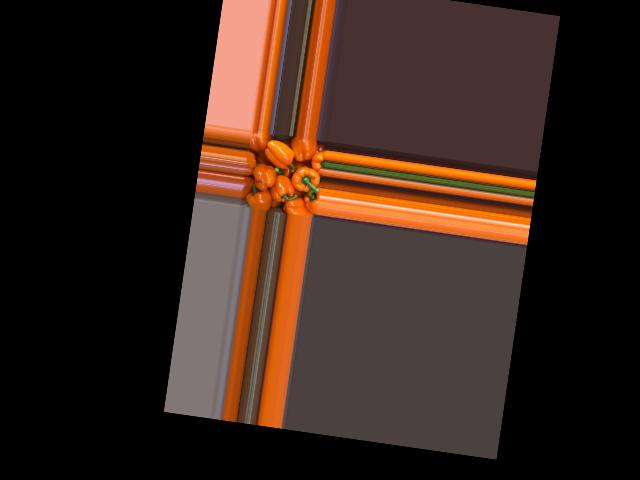bell_pepper: (239, 170, 261, 202)
